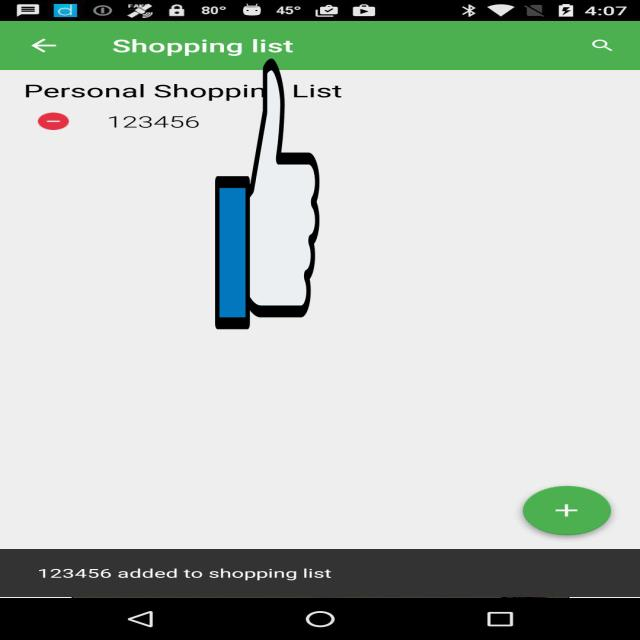privacy zuckering: (215, 53, 320, 335)
